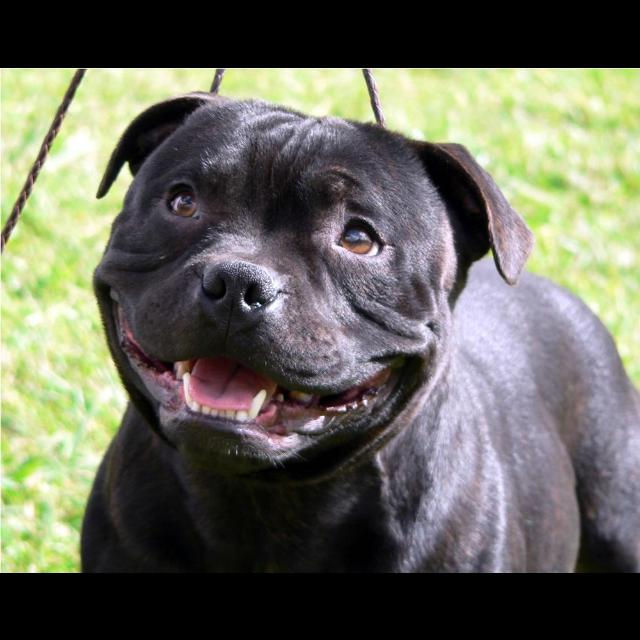staffford: (79, 76, 640, 573)
